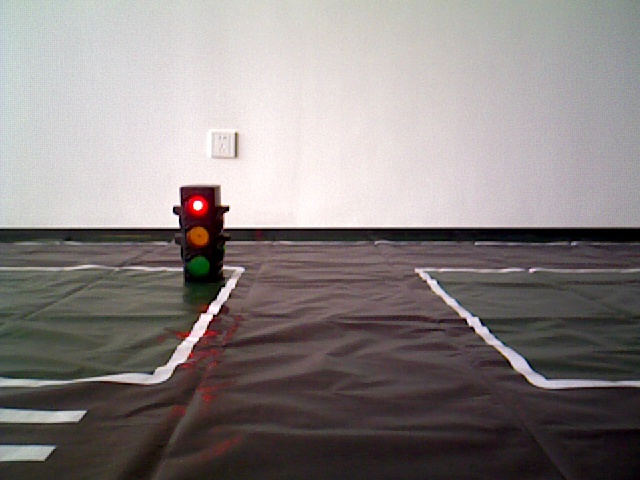red: (180, 190, 222, 283)
